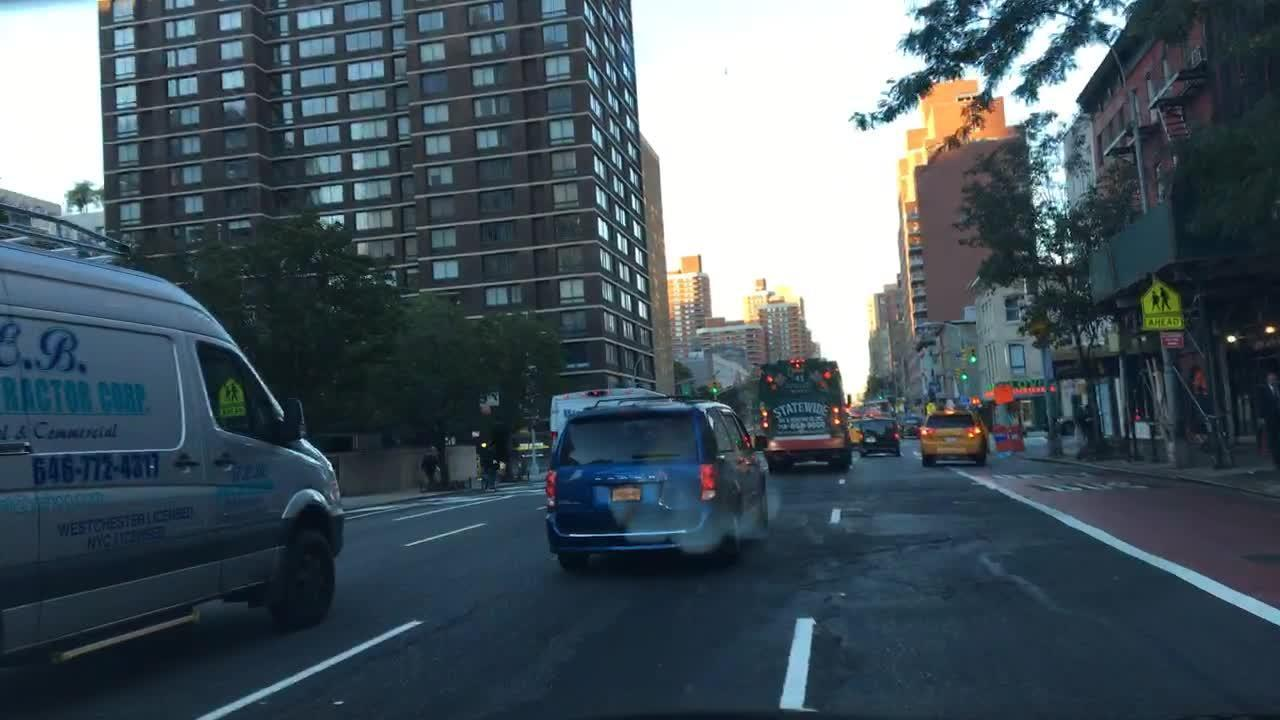dodge: (588, 474, 668, 482)
